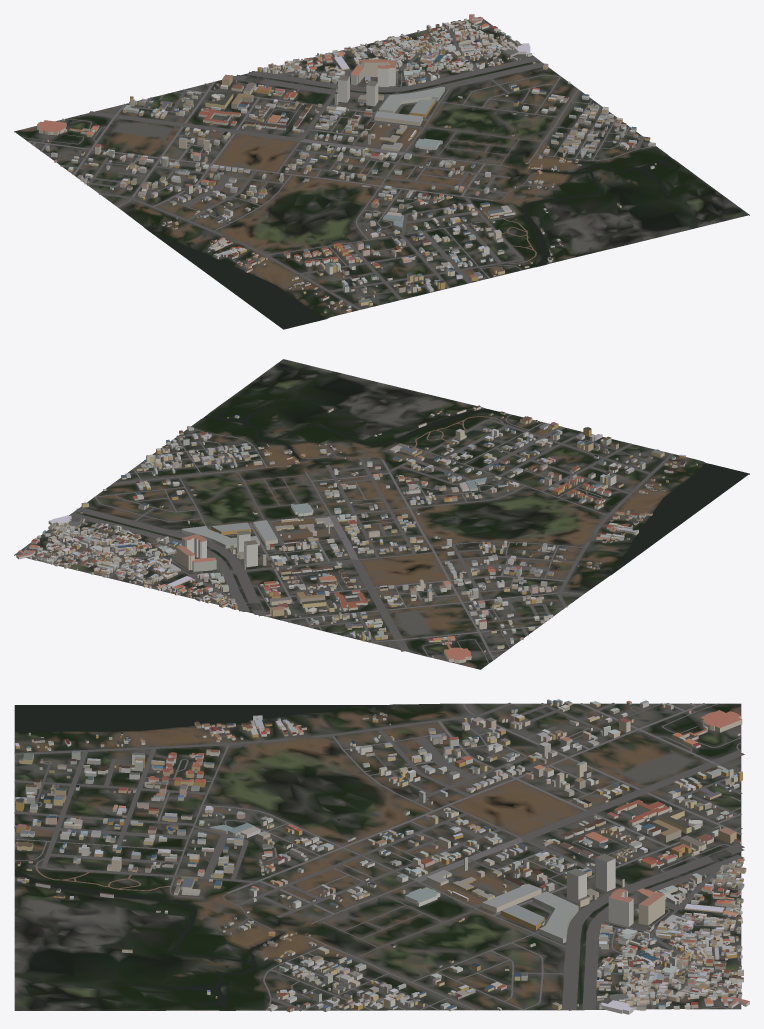
3 renders of one model, top to bottom at view 1: azimuth 30°, elevation 25°; view 2: azimuth 150°, elevation 25°; view 3: azimuth 270°, elevation 25°, orthographic. The views are drawn at different scales.
Parts seen in each view (by area): view 1: ground, buildings, roads, water; view 2: ground, buildings, roads, water; view 3: ground, buildings, roads, water.
Part boxes in pixels (bbox=[...]): ground: bbox=[14, 16, 749, 329]; buildings: bbox=[37, 14, 656, 313]; roads: bbox=[22, 20, 656, 309]; water: bbox=[146, 156, 674, 328]; ground: bbox=[14, 359, 749, 669]; buildings: bbox=[16, 405, 697, 663]; roads: bbox=[23, 414, 674, 663]; water: bbox=[204, 394, 748, 574]; ground: bbox=[14, 703, 741, 1010]; buildings: bbox=[15, 699, 749, 1014]; roads: bbox=[14, 702, 744, 1011]; water: bbox=[15, 705, 386, 1010].
Bounding box in the file's own units: 1426 × 69.2 × 1418.
